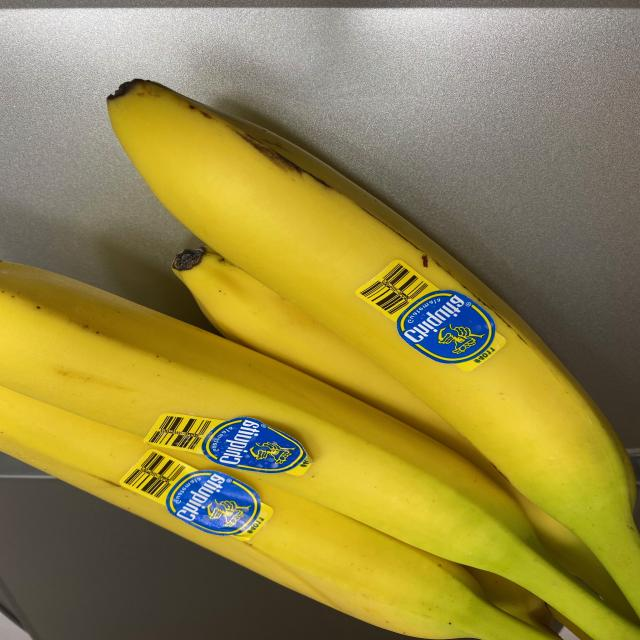banana: (8, 77, 636, 639)
